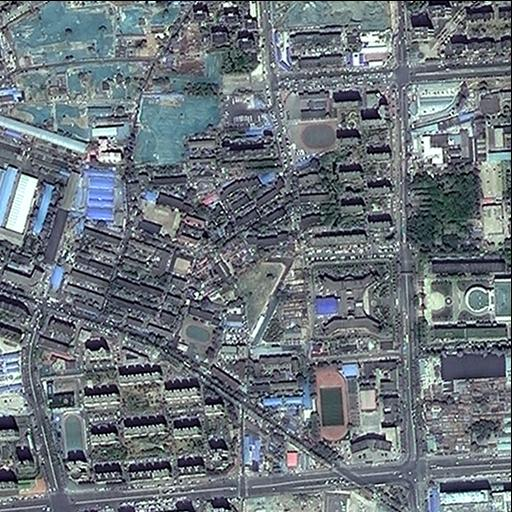school: (280, 83, 338, 151), (172, 306, 221, 367)
